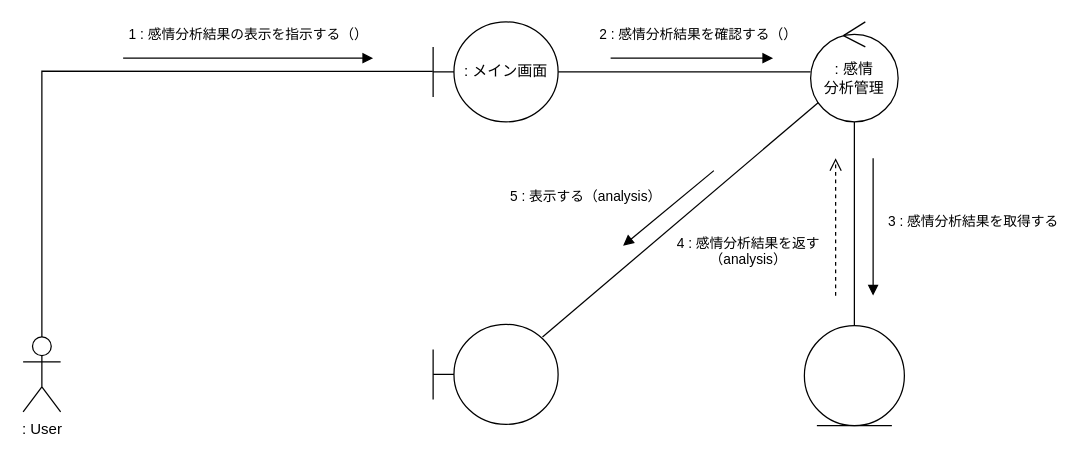
Some shapes in this 1079 by 460 pixel diagram are drawn without their labels. Here are the shapes that lost their labels. From the top down, the box of each, then its label:
(432, 323, 558, 424): : 感情分析 結果を表示する画面
(803, 324, 904, 426): : Analysis
